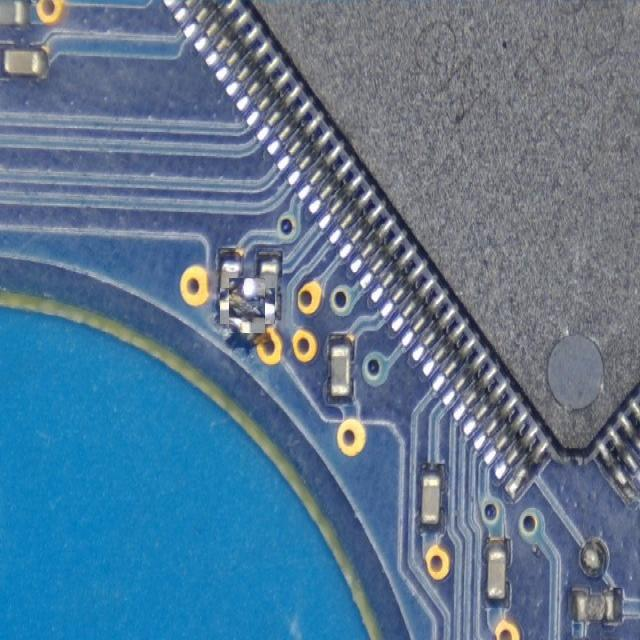Short_circuit: (229, 279, 264, 332)
